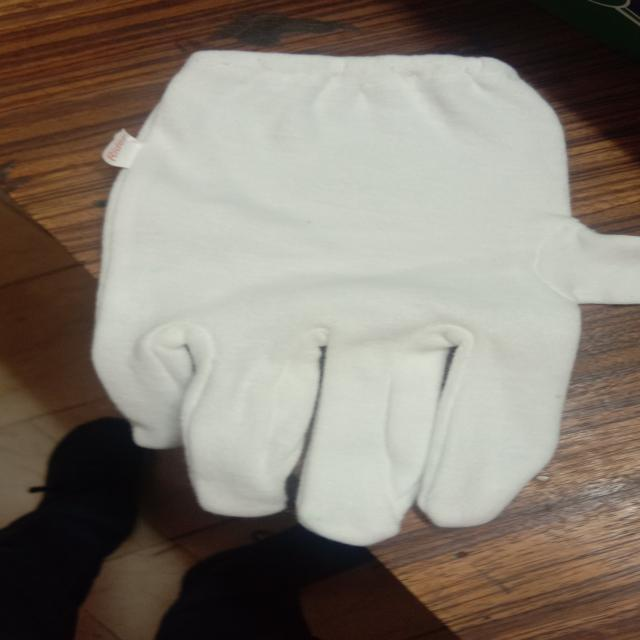glove_hand: (78, 47, 640, 550)
